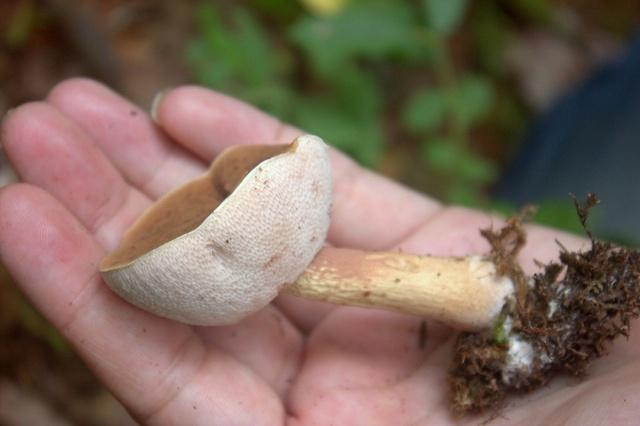Non-edible Mushroom: (97, 132, 518, 335)
